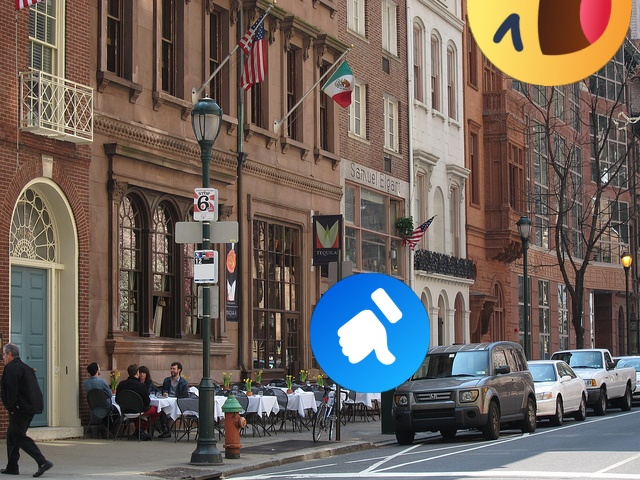haha: (467, 0, 632, 86)
like: (310, 273, 430, 393)
